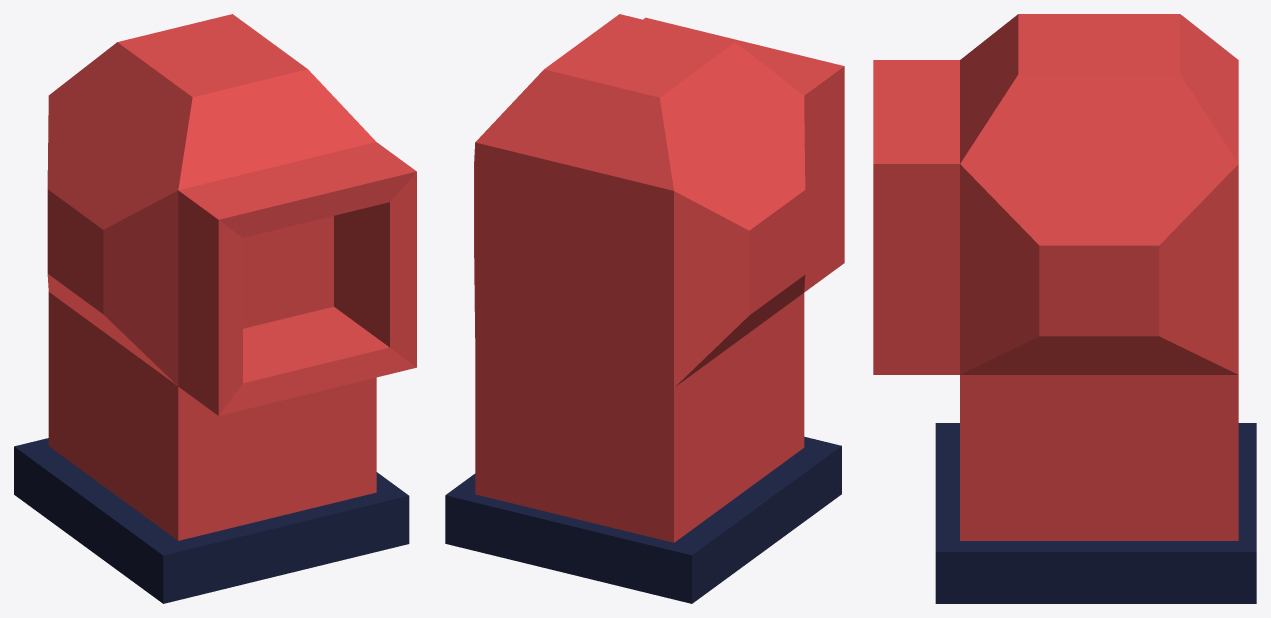
Rendered from turret3.fbx.
3 renders of one model, left to right at view 1: azimuth 30°, elevation 25°; view 2: azimuth 150°, elevation 25°; view 3: azimuth 270°, elevation 25°, orthographic. The views are drawn at different scales.
Visible parts, largest first — view 1: Cube, Sphere.002; view 2: Cube, Sphere.002; view 3: Cube, Sphere.002.
Part boxes in pixels (<box>): Cube: <box>47,14,416,540</box>; Sphere.002: <box>14,438,409,603</box>; Cube: <box>474,14,844,542</box>; Sphere.002: <box>445,436,841,603</box>; Cube: <box>873,14,1238,540</box>; Sphere.002: <box>935,423,1256,603</box>.
Size of the model in its own units: 42.59 by 68.55 by 47.95.
